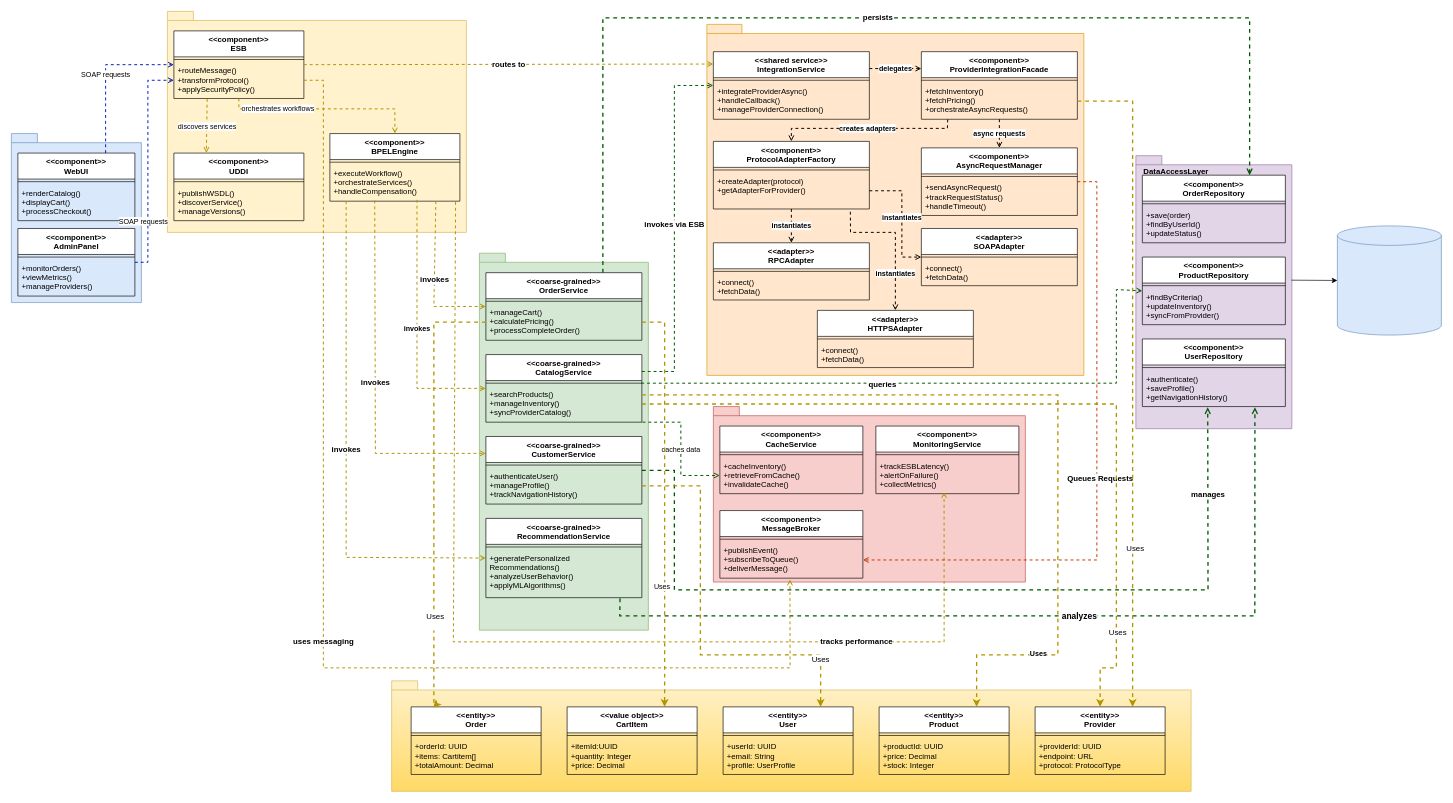
Some shapes in this 1453 by 803 pixel diagram are drawn without their labels. The shapes that lost their labels are listed below. From the top down, each one's box as (x1, y1, x2, y2) in pixels, then its label:
(167, 11, 466, 232): EnterpriseServiceBusLayer
(11, 133, 141, 303): PresentationLayer
(706, 24, 1084, 375): ProviderIntegrationLayer
(1337, 225, 1441, 335): Distributed Database
(479, 253, 648, 630): EnterpriseServicesLayer
(713, 406, 1025, 582): InfrastructureLayer
(391, 680, 1191, 791): Domain Layer
